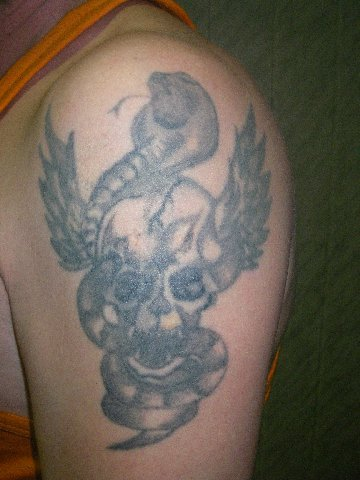tatu7_zmeya: (58, 69, 265, 450)
